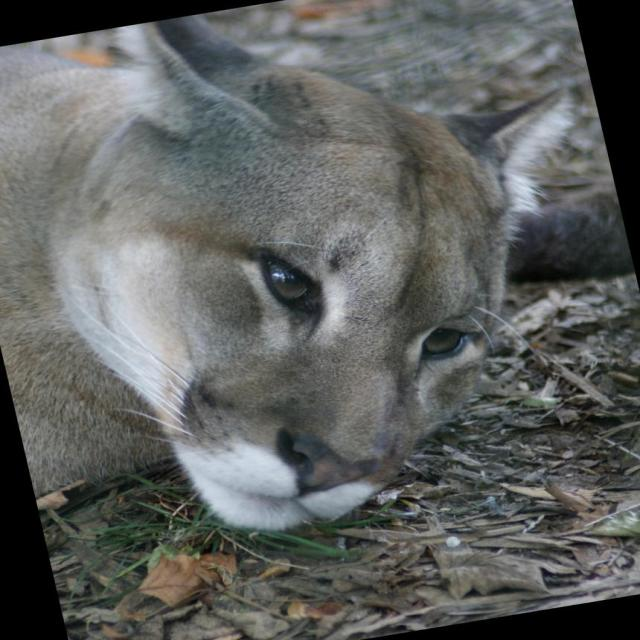Lion: (0, 0, 639, 568)
